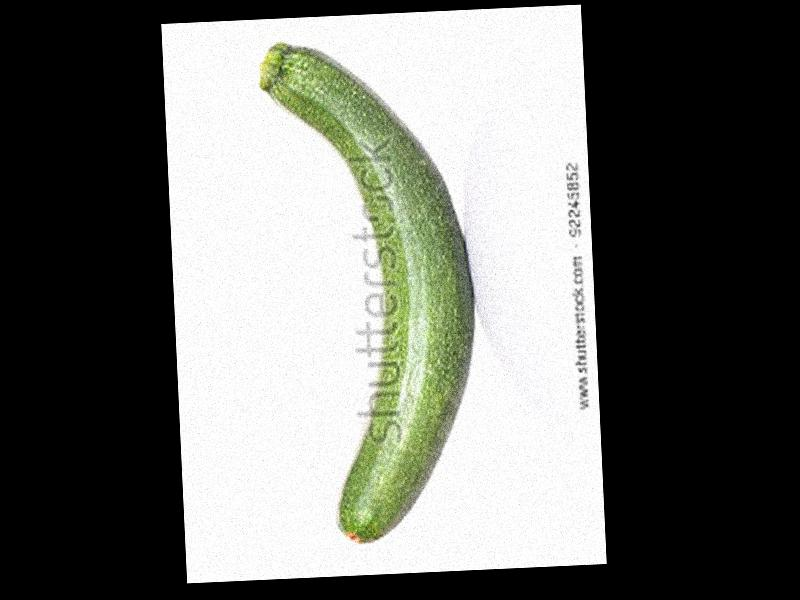Cucumber: (257, 36, 483, 546)
